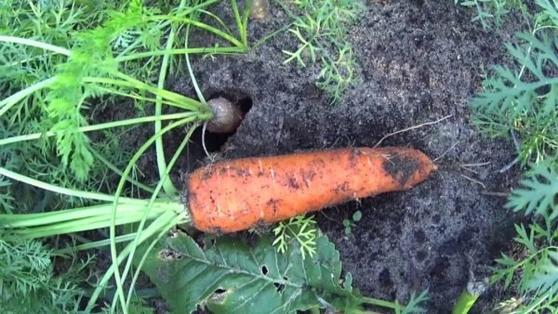carrot: (186, 145, 436, 242)
